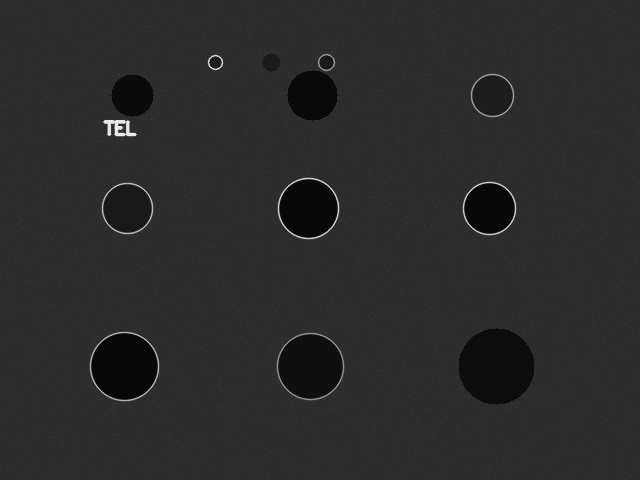hole: (458, 328, 534, 404), (90, 332, 158, 400), (277, 333, 343, 399), (278, 178, 338, 238), (463, 182, 515, 234), (287, 70, 337, 120), (102, 183, 152, 233), (111, 74, 153, 116), (471, 74, 513, 116), (262, 53, 280, 71), (318, 54, 334, 70), (208, 55, 222, 69)
